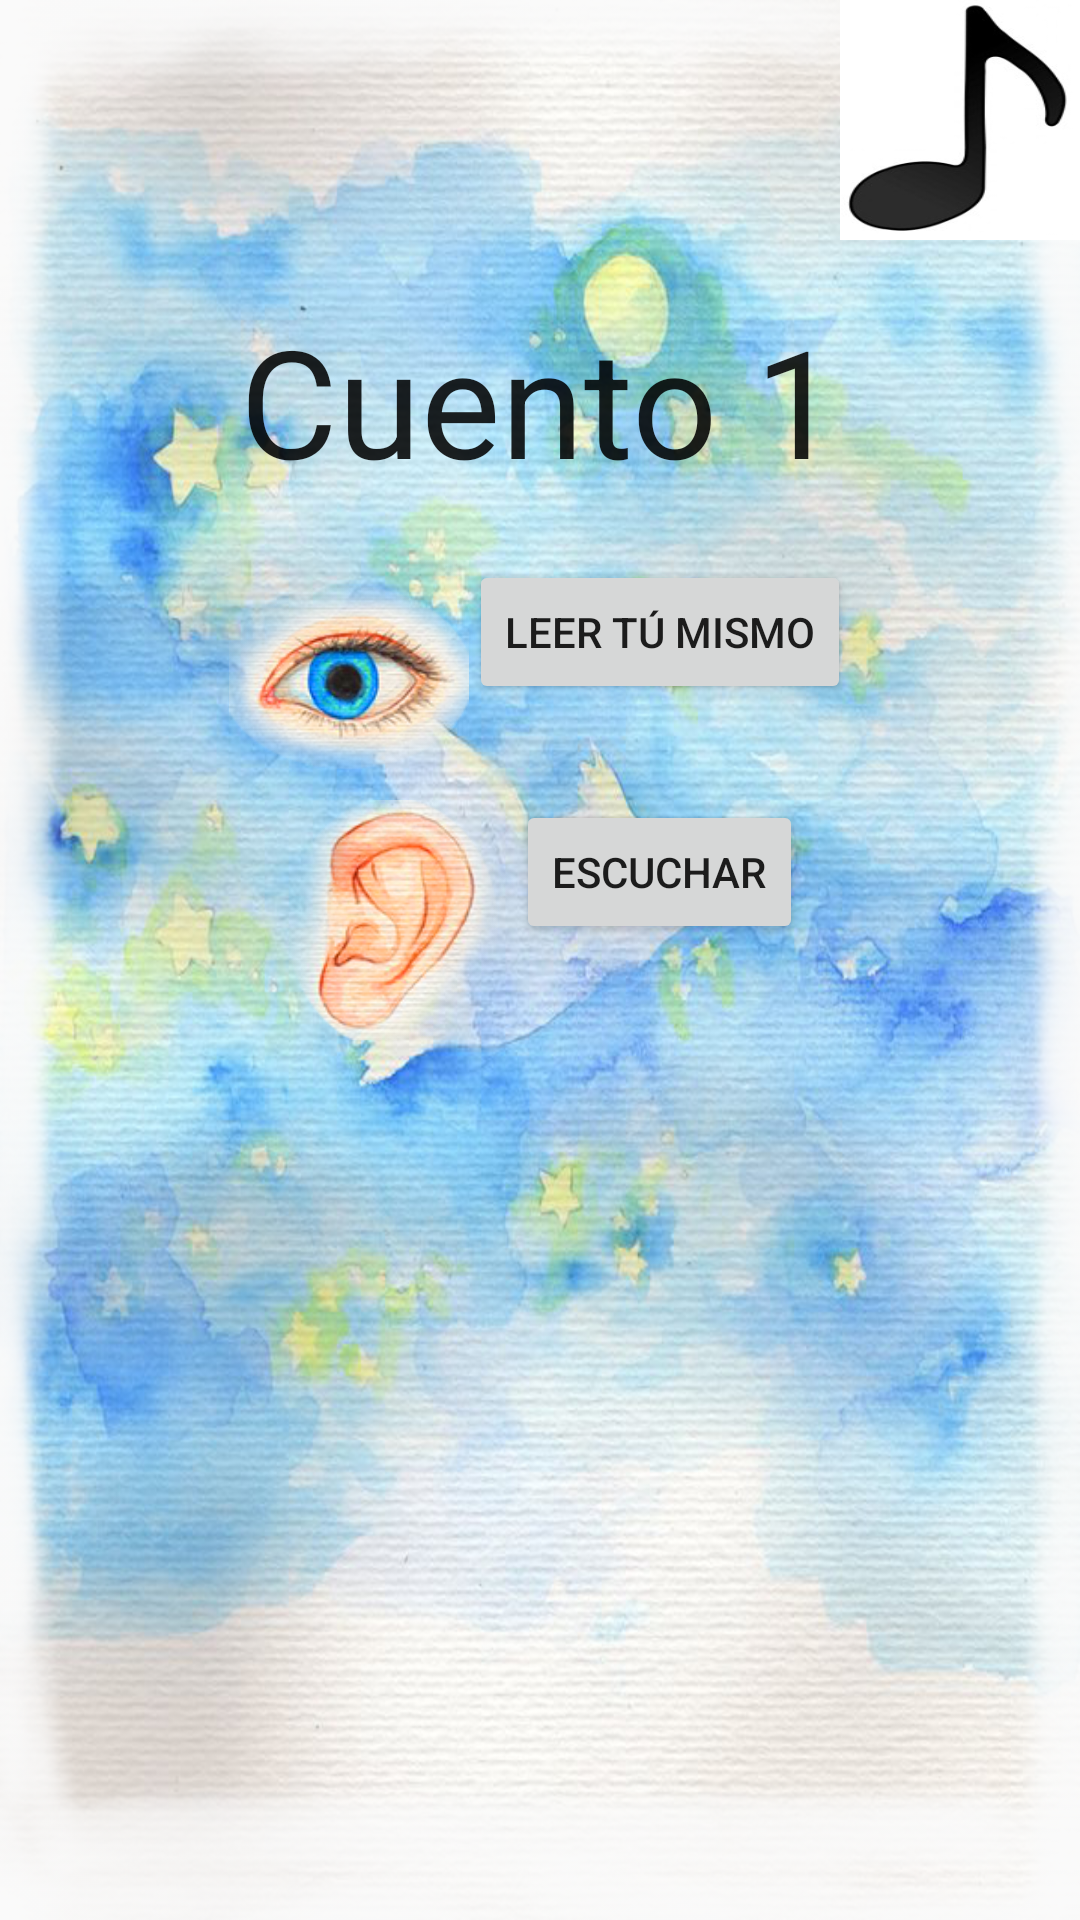

Icon click points for this 1080x1920 phone screenshot, format (x,y):
ojo: (349,680)
oreja: (396,920)
